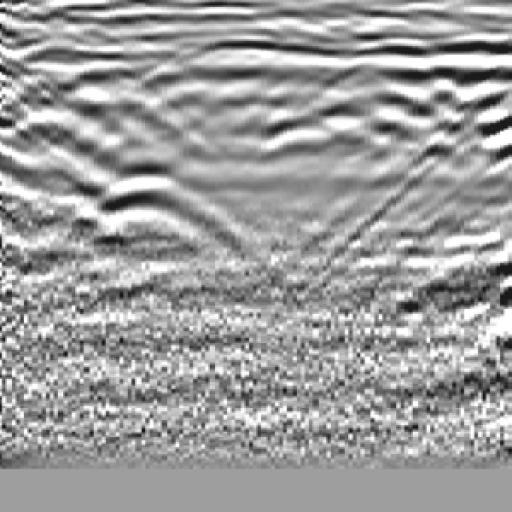metalic: (62, 40, 236, 287)
non-metallic: (225, 56, 367, 238)
nonmetalic: (365, 44, 512, 286)
